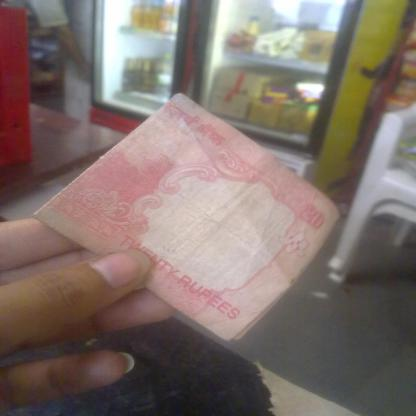Old20Back: (46, 94, 335, 330)
